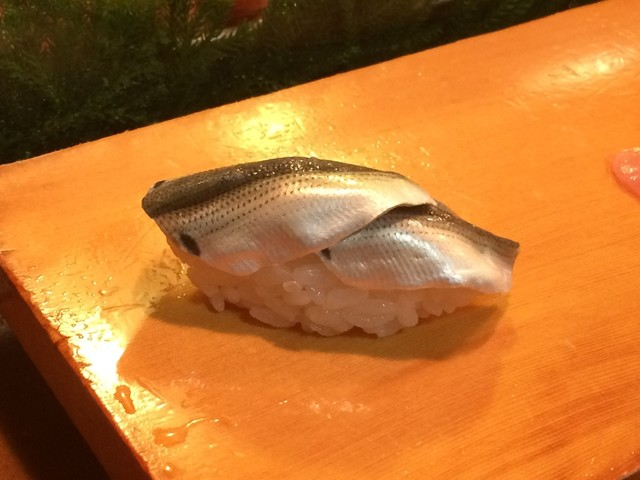spotted-shad: (142, 152, 527, 335)
